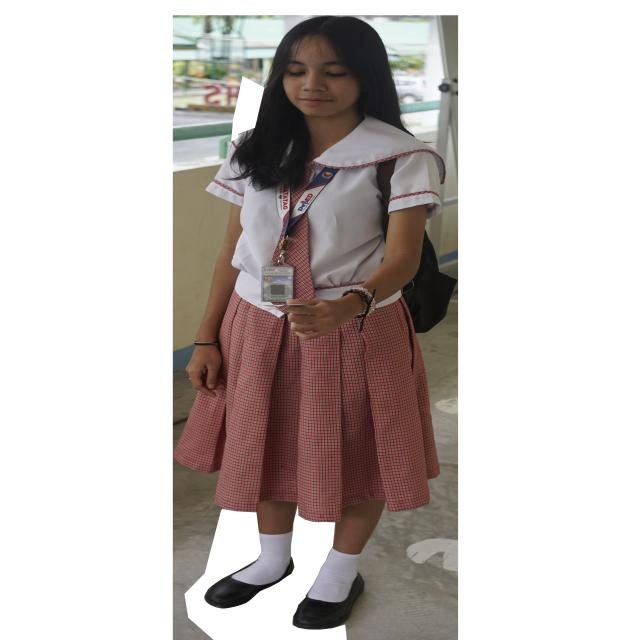id lace: (276, 167, 340, 241)
pologirl: (304, 117, 444, 288), (206, 159, 285, 305), (284, 214, 316, 299)
shoes: (204, 559, 294, 608), (292, 573, 364, 630)
skirt: (176, 293, 437, 522)
